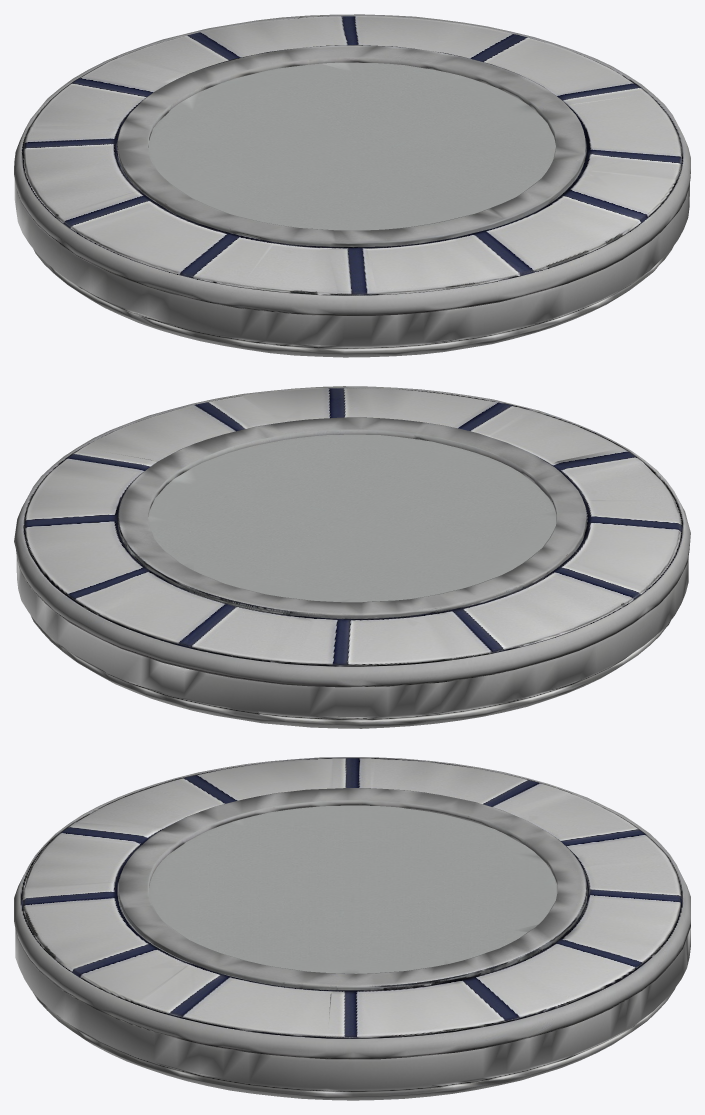
File: tripo_convert_555fe1e0-cb28-4da0-84c2-a282a8f075dd.fbx
3 views of the same model, one above another, from view 1: azimuth 30°, elevation 25°; view 2: azimuth 150°, elevation 25°; view 3: azimuth 270°, elevation 25° (orthographic).
Parts seen in each view (by area): view 1: tripo_node_555fe1e0; view 2: tripo_node_555fe1e0; view 3: tripo_node_555fe1e0.
Part boxes in pixels (<box>): tripo_node_555fe1e0: <box>14,14,690,357</box>; tripo_node_555fe1e0: <box>14,386,690,728</box>; tripo_node_555fe1e0: <box>14,757,690,1100</box>.
Size of the model in its own units: 0.998 by 0.127 by 0.998.
1 material, 1 textured.
